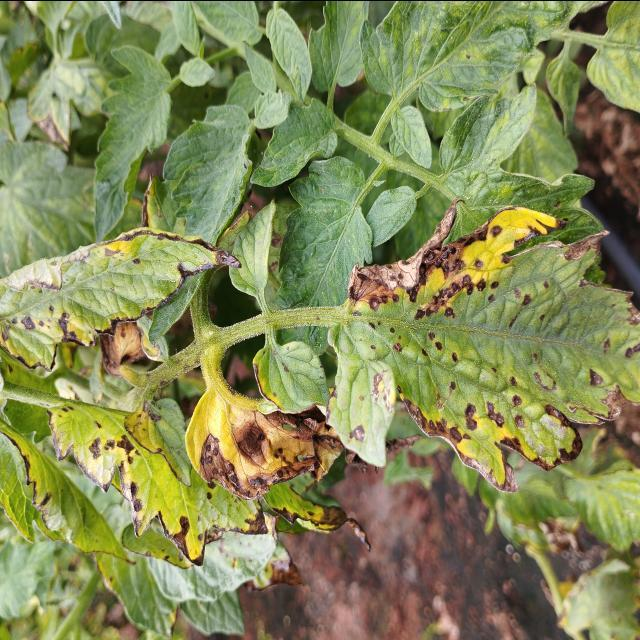Tomato mosaic virus leaf: (344, 200, 640, 498), (40, 398, 374, 570), (0, 220, 247, 382), (185, 387, 349, 505)
